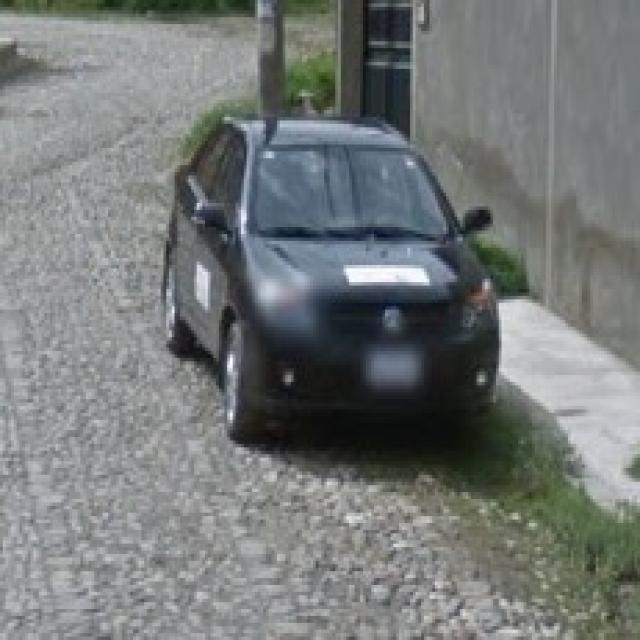Car: (168, 124, 508, 436)
